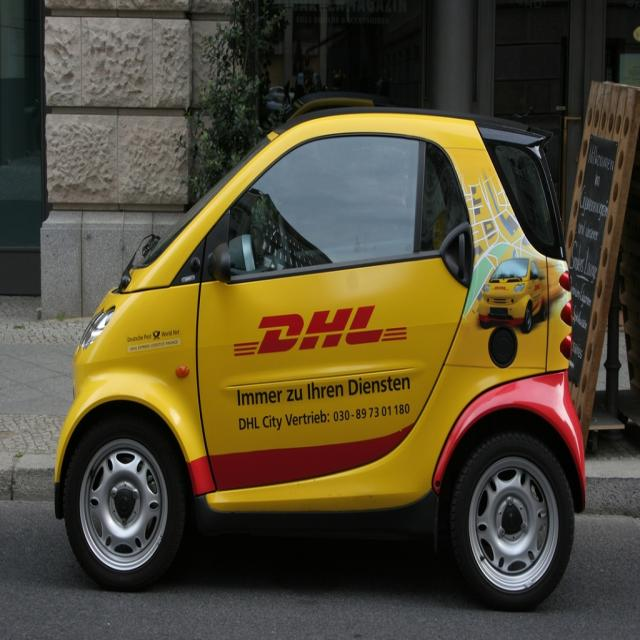dhl: (225, 299, 424, 365)
